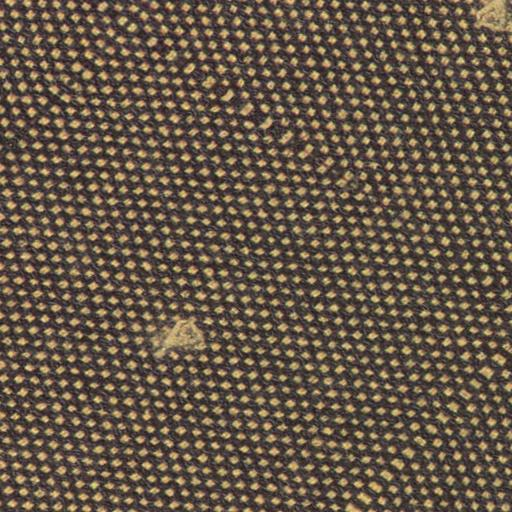knot: (146, 310, 221, 371), (465, 2, 510, 50)
